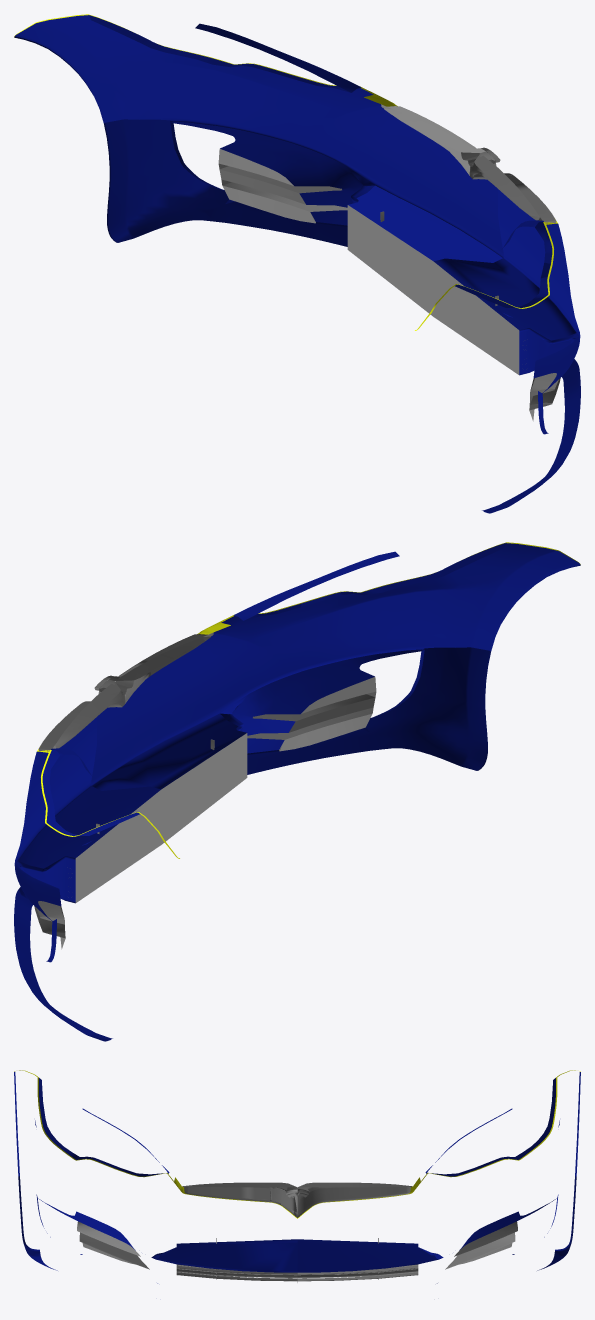
File: Bumper_F.obj
The picture shows the model from 3 angles, top to bottom: view 1: azimuth 30°, elevation 25°; view 2: azimuth 150°, elevation 25°; view 3: azimuth 270°, elevation 25°; orthographic projection. The views are drawn at different scales.
Parts seen in each view (by area): view 1: Bumper_F; view 2: Bumper_F; view 3: Bumper_F.
Part boxes in pixels (x1=…): Bumper_F: x1=14, y1=14, x2=580, y2=513; Bumper_F: x1=14, y1=542, x2=580, y2=1041; Bumper_F: x1=14, y1=1070, x2=580, y2=1283.
Bounding box in the file's own units: 0.8099 × 0.6192 × 1.93.
